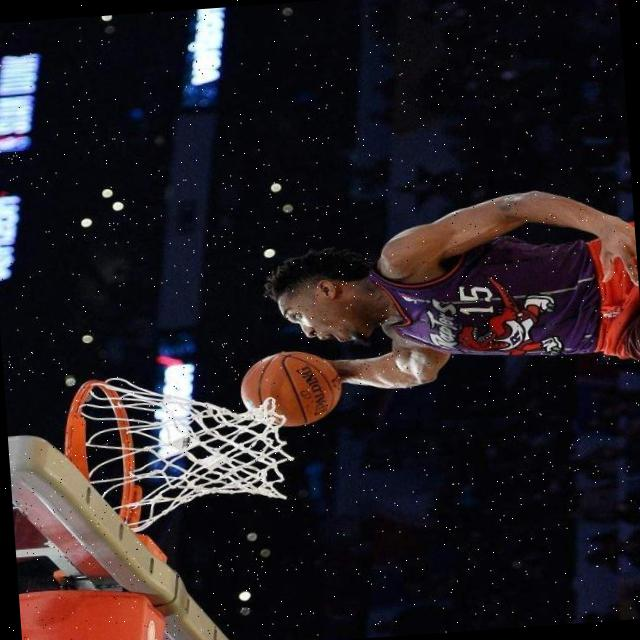ball: (238, 346, 345, 429)
